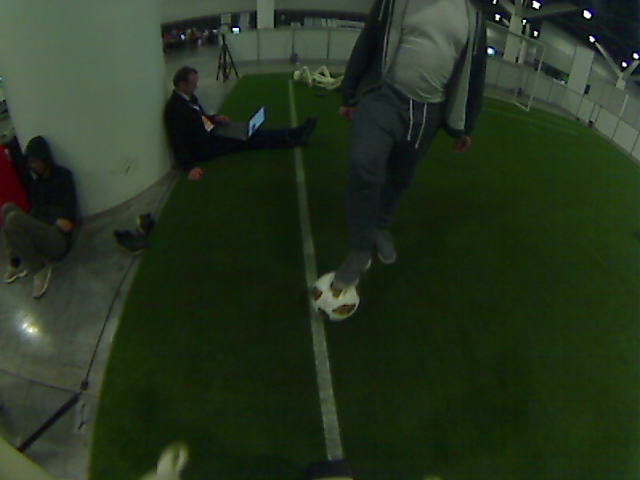ball: (314, 271, 357, 320)
goalpost: (522, 70, 534, 114)
robot: (322, 59, 345, 88)
